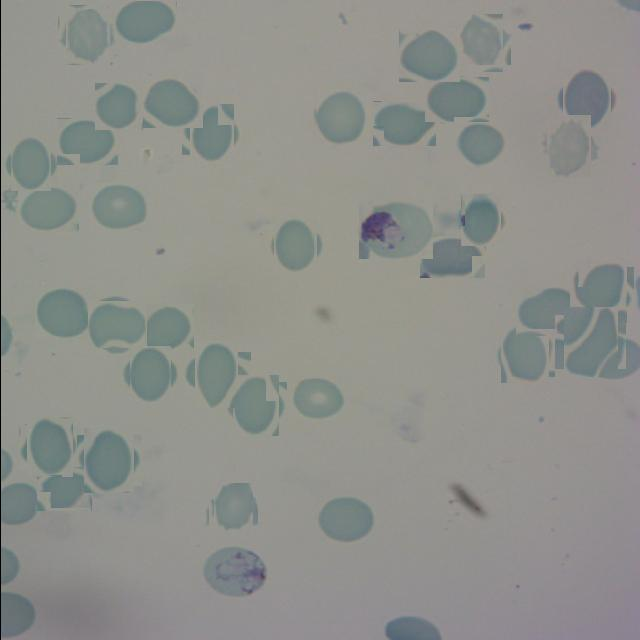leukocyte: (558, 311, 621, 374), (515, 287, 585, 336), (80, 432, 138, 489), (572, 264, 630, 320), (398, 29, 459, 82), (140, 76, 202, 128), (34, 286, 94, 339), (558, 72, 614, 128), (188, 346, 244, 402), (424, 76, 489, 122), (496, 326, 551, 380), (313, 90, 368, 144), (315, 495, 376, 543), (228, 378, 282, 432), (541, 119, 595, 173), (21, 421, 76, 474), (56, 118, 118, 165), (88, 183, 148, 231), (372, 101, 436, 146), (90, 298, 143, 352), (135, 304, 193, 353), (17, 186, 78, 232), (419, 236, 485, 278), (113, 0, 176, 44), (61, 9, 113, 62), (185, 108, 237, 160), (288, 376, 346, 420), (455, 18, 506, 68), (270, 221, 320, 271), (36, 466, 91, 511), (454, 121, 506, 168), (126, 349, 174, 398), (94, 82, 142, 130), (6, 140, 54, 188), (456, 197, 503, 243), (210, 486, 254, 530)
schizont: (358, 202, 432, 259), (201, 546, 268, 597)
